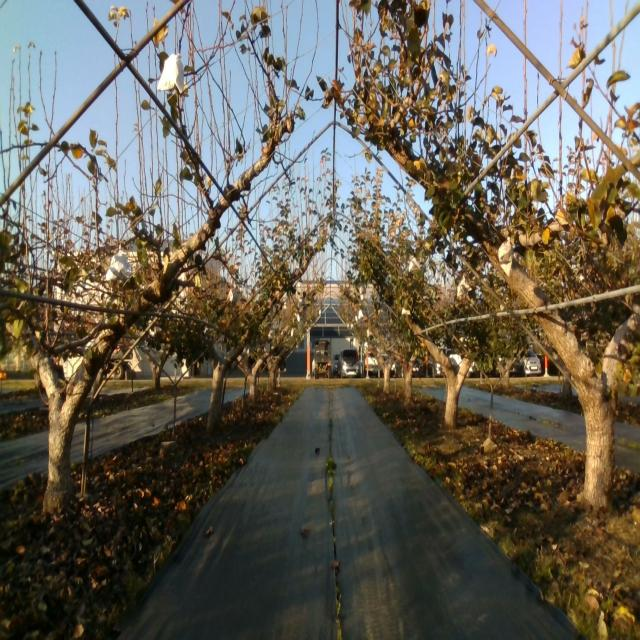pearbags: (156, 52, 184, 97), (105, 244, 132, 281), (498, 237, 514, 278), (456, 272, 473, 298), (409, 255, 421, 272)
